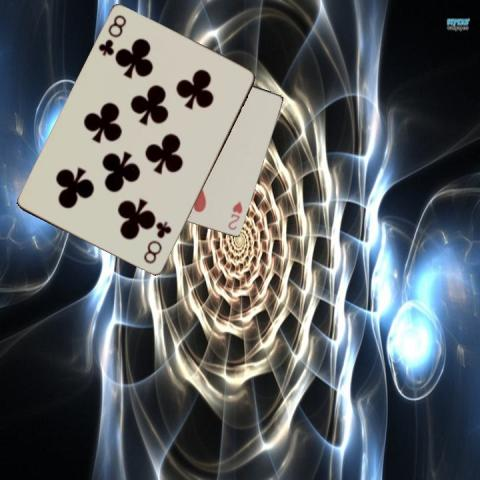2h: (225, 198, 243, 231)
8c: (95, 12, 129, 58), (141, 219, 173, 266)
